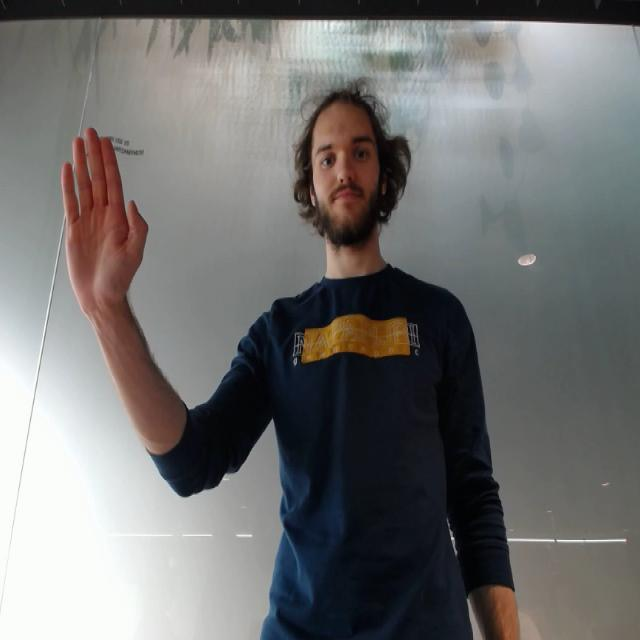backward: (56, 121, 153, 322)
